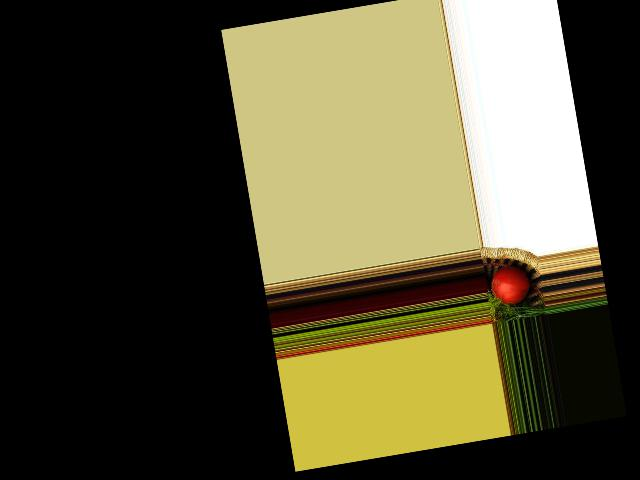tomato: (488, 263, 532, 308)
